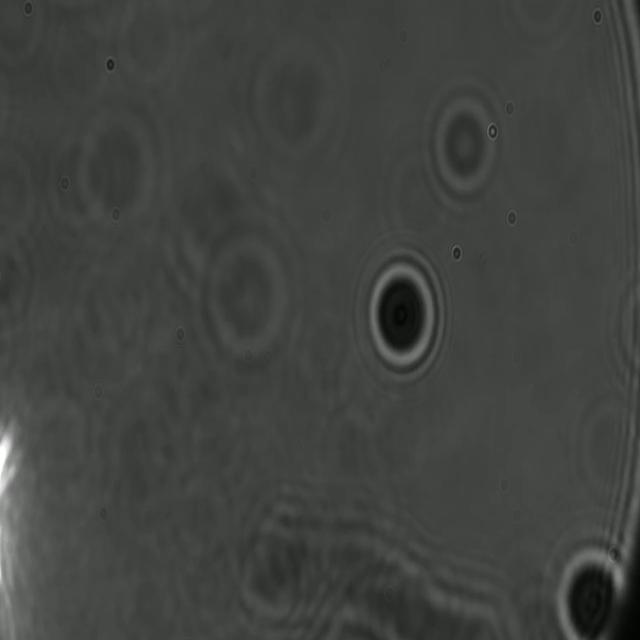DCELL: (362, 248, 446, 380)
